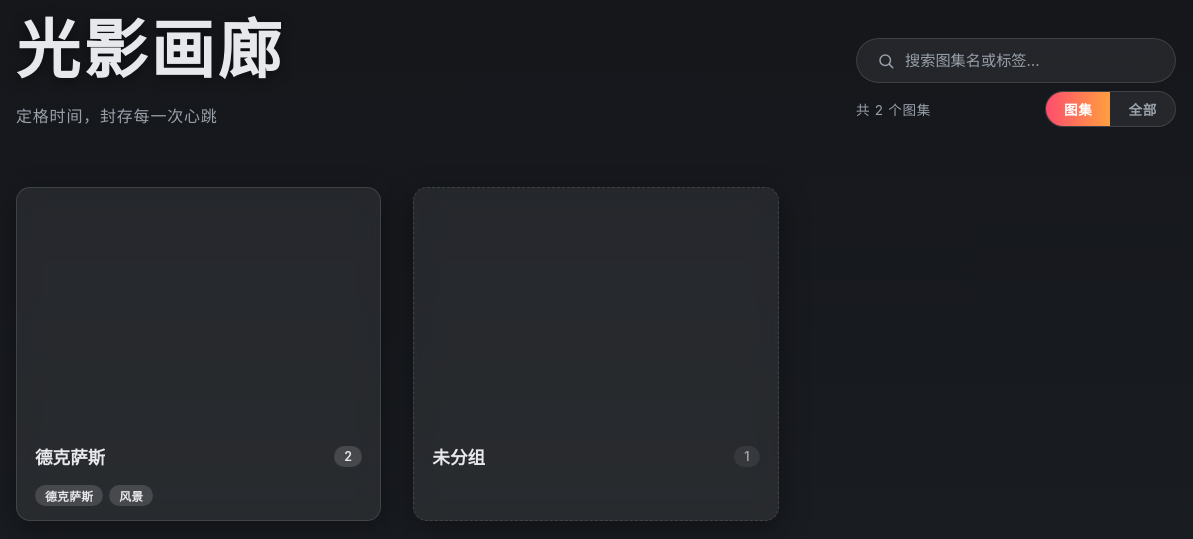
Test: GalleryView 图集模式 › 图集名命中搜索
This screenshot has width=1193, height=539.
Type "德克萨斯" into the field with class "search-input" at (1030, 60), box [905, 51, 1155, 70]
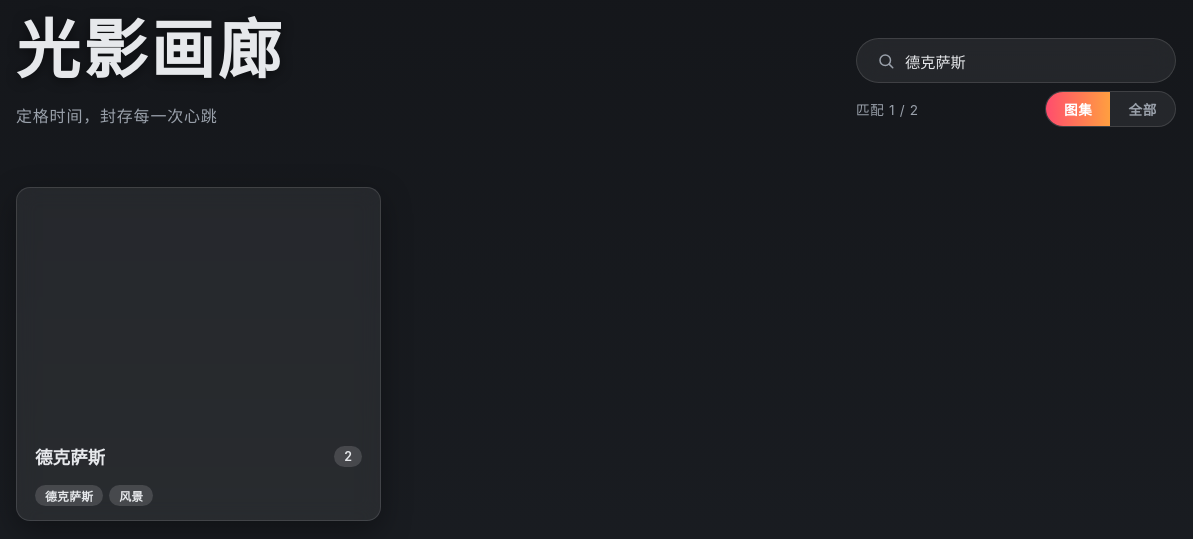
Now the text "匹配 1 / 2" is shown, box [856, 102, 919, 118]
